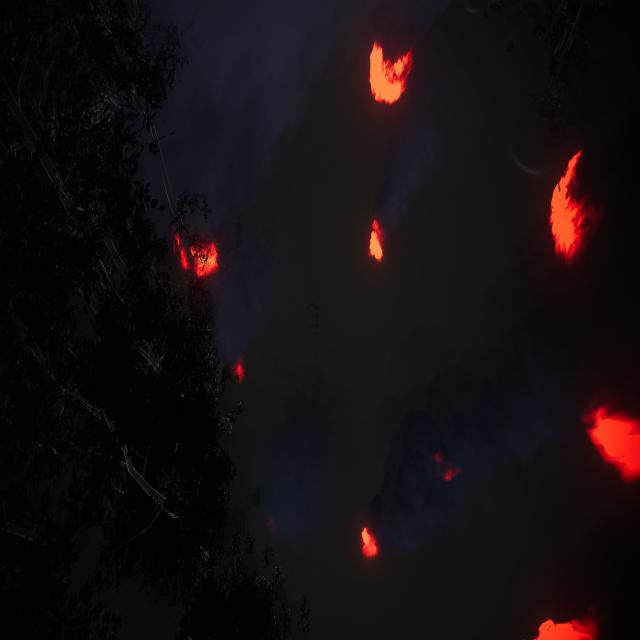Human: (304, 286, 324, 350)
